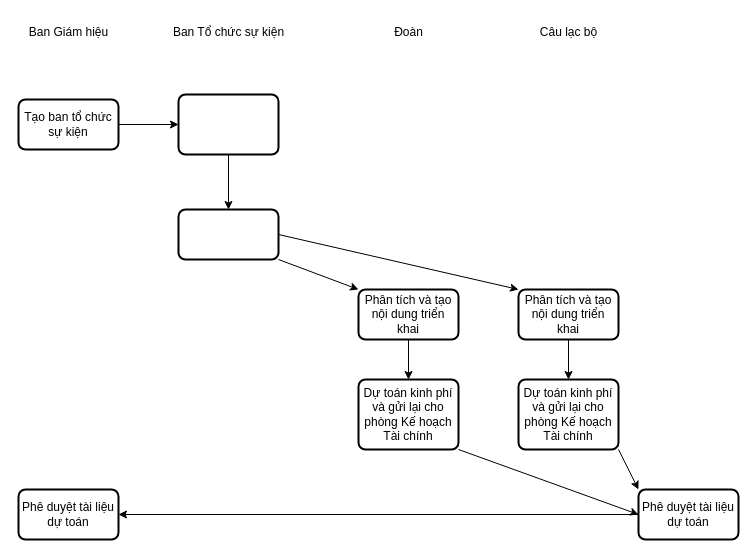
The diagram is 756 pixels wide and 557 high, and some of its shapes have lost their labels. The box of each missing label's shape, as (x1, y1, x2, y2) in pixels:
Giao việc cho các đơn vị liên quan: (177, 208, 279, 260)
Xác định kế hoạch thực hiện sự kiện: (177, 93, 279, 155)
